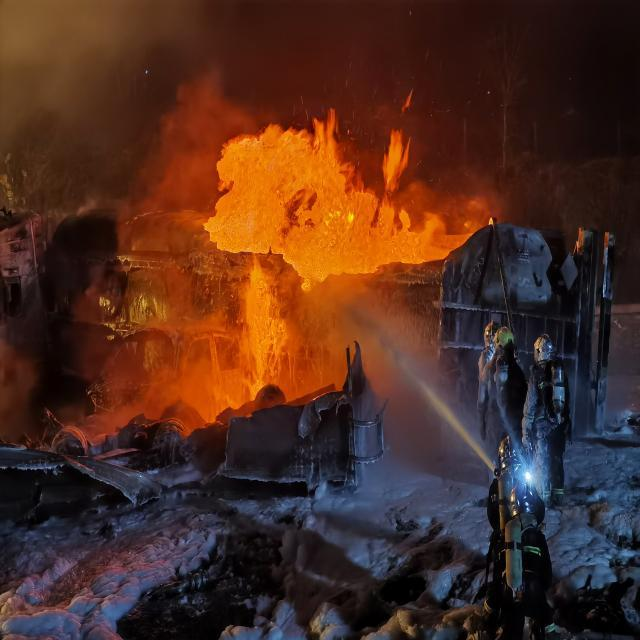Fire: (204, 113, 447, 294), (237, 258, 290, 390)
